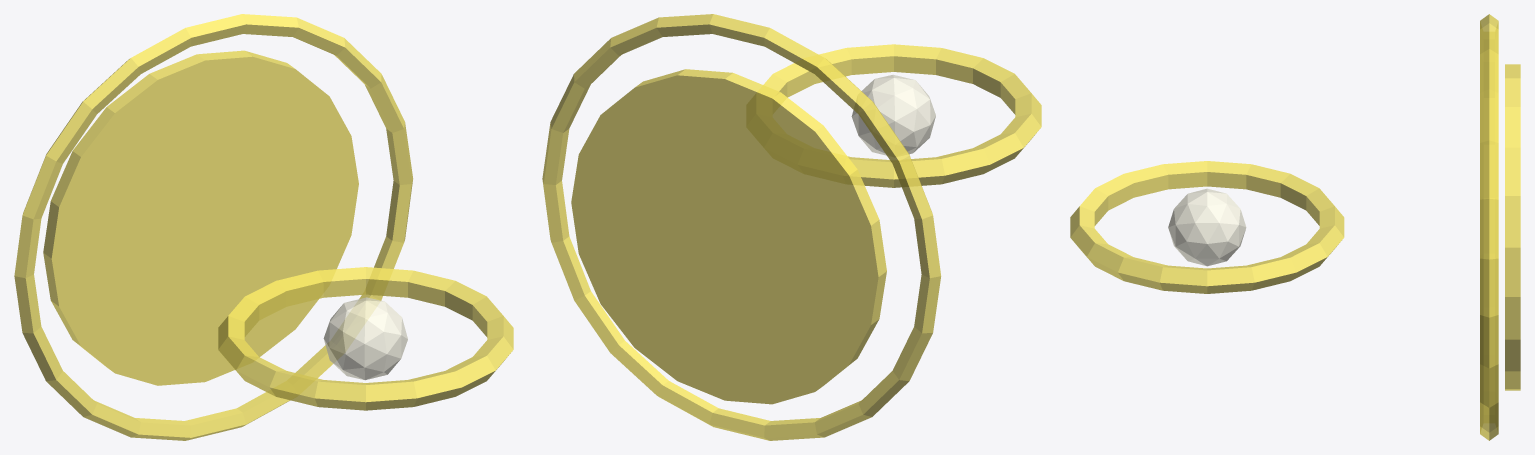
The model's file is quest_marker_exclamation.glb.
3 renders of one model, left to right at view 1: azimuth 30°, elevation 25°; view 2: azimuth 150°, elevation 25°; view 3: azimuth 270°, elevation 25°, orthographic. The views are drawn at different scales.
Parts seen in each view (by area): view 1: marker_disc, marker_ring, icon_ring, icon_core; view 2: marker_disc, marker_ring, icon_ring, icon_core; view 3: icon_ring, marker_ring, marker_disc, icon_core.
Boxes of the visible parts, x1,y1,x2,y2 form: marker_disc: (43, 50, 358, 385); marker_ring: (14, 14, 413, 440); icon_ring: (218, 267, 513, 410); icon_core: (323, 297, 407, 380); marker_disc: (571, 69, 886, 404); marker_ring: (542, 14, 941, 440); icon_ring: (763, 44, 1041, 187); icon_core: (851, 74, 935, 155); icon_ring: (1070, 161, 1344, 293); marker_ring: (1480, 14, 1498, 440); marker_disc: (1505, 64, 1520, 390); icon_core: (1168, 188, 1246, 266).
Size of the model in its own units: 1.09 by 1.08 by 1.15.
